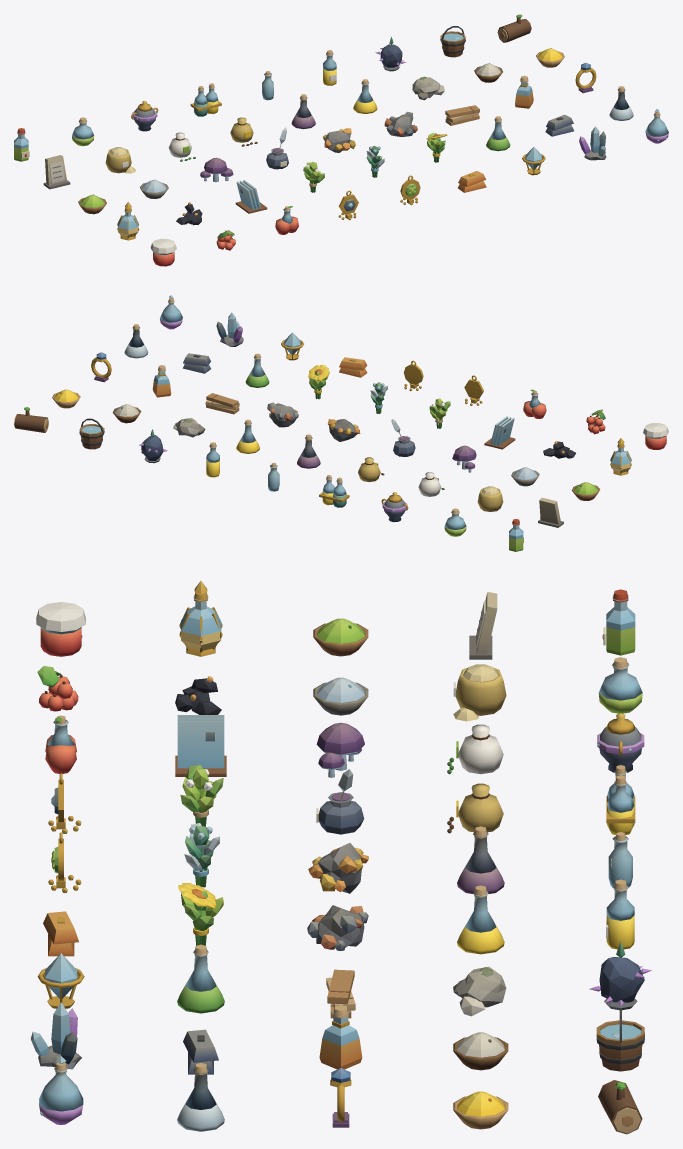
Rendered from arcane_items.glb.
3 views of the same model, one above another, from view 1: azimuth 30°, elevation 25°; view 2: azimuth 150°, elevation 25°; view 3: azimuth 270°, elevation 25° (orthographic). The views are drawn at different scales.
Parts seen in each view (by area): view 1: item_rune_blank, item_twin_elixir, item_crystal_raw, item_glass, item_sand, item_water, item_ore_iron, item_berry_mash, item_ore_copper, item_wood_log, item_void_seed, item_elixir_master (+27 smaller); view 2: item_twin_elixir, item_glass, item_water, item_wood_log, item_crystal_raw, item_berry_mash, item_ore_iron, item_rune_blank, item_sand, item_ore_copper, item_elixir_master, item_twilight_relic (+27 smaller); view 3: item_glass, item_sand, item_berry_mash, item_water, item_elixir_master, item_void_seed, item_ore_iron, item_ore_copper, item_crystal_raw, item_potion_vigor, item_dream_draught, item_twilight_relic (+31 smaller).
Boxes of the visible parts, x1,y1,x2,y2 form: item_rune_blank: [43, 155, 70, 189]; item_twin_elixir: [190, 83, 221, 116]; item_crystal_raw: [579, 126, 606, 160]; item_glass: [235, 180, 267, 213]; item_sand: [105, 147, 135, 173]; item_water: [440, 26, 465, 57]; item_ore_iron: [384, 111, 417, 136]; item_berry_mash: [150, 238, 176, 266]; item_ore_copper: [323, 128, 355, 152]; item_wood_log: [497, 14, 531, 42]; item_void_seed: [375, 36, 406, 71]; item_elixir_master: [117, 202, 139, 240]; item_twin_elixir: [319, 475, 349, 507]; item_glass: [484, 416, 515, 449]; item_water: [79, 418, 104, 449]; item_wood_log: [14, 407, 48, 432]; item_crystal_raw: [216, 312, 243, 346]; item_berry_mash: [643, 422, 668, 449]; item_ore_iron: [267, 402, 298, 427]; item_rune_blank: [538, 497, 563, 527]; item_sand: [477, 486, 503, 511]; item_ore_copper: [327, 419, 360, 441]; item_elixir_master: [610, 438, 631, 475]; item_twilight_relic: [381, 492, 408, 522]; item_glass: [175, 715, 226, 776]; item_sand: [453, 664, 506, 721]; item_berry_mash: [36, 602, 85, 656]; item_water: [596, 1008, 644, 1071]; item_elixir_master: [179, 581, 222, 656]; item_void_seed: [589, 941, 651, 1010]; item_ore_iron: [307, 905, 368, 950]; item_ore_copper: [308, 843, 368, 893]; item_crystal_raw: [30, 1002, 81, 1069]; item_potion_vigor: [319, 1005, 362, 1069]; item_dream_draught: [39, 1056, 83, 1124]; item_twilight_relic: [597, 713, 644, 772].
Size of the model in its own units: 25.36 by 1.75 by 13.33.
1 material, 1 textured.
